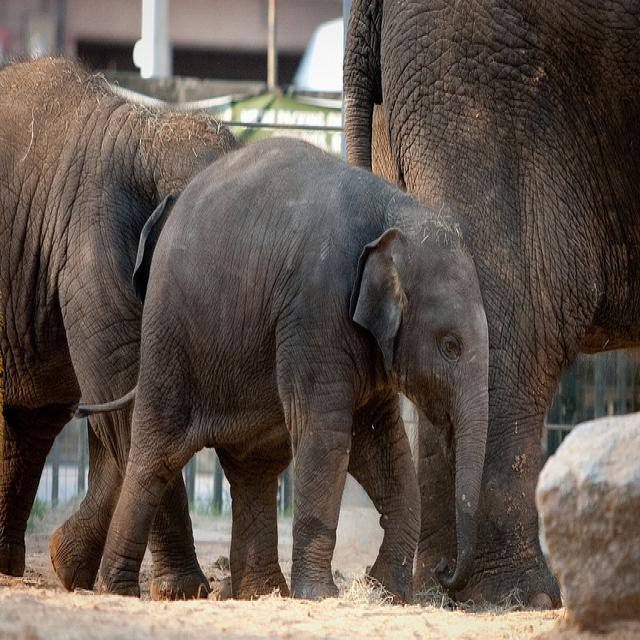Elephant: (73, 133, 490, 604), (341, 0, 639, 610)
